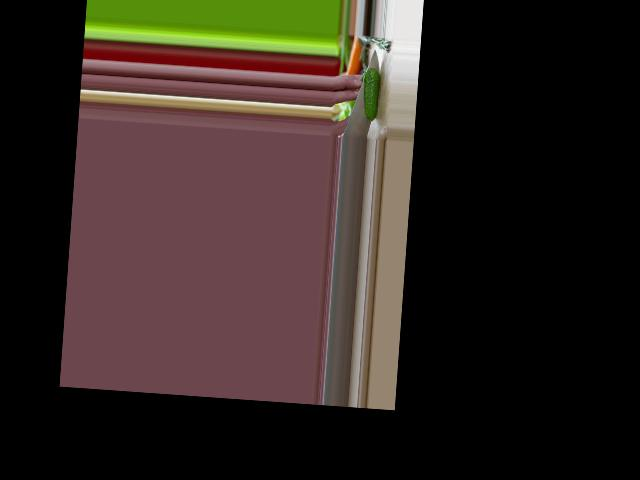cucumber: (361, 67, 381, 121)
